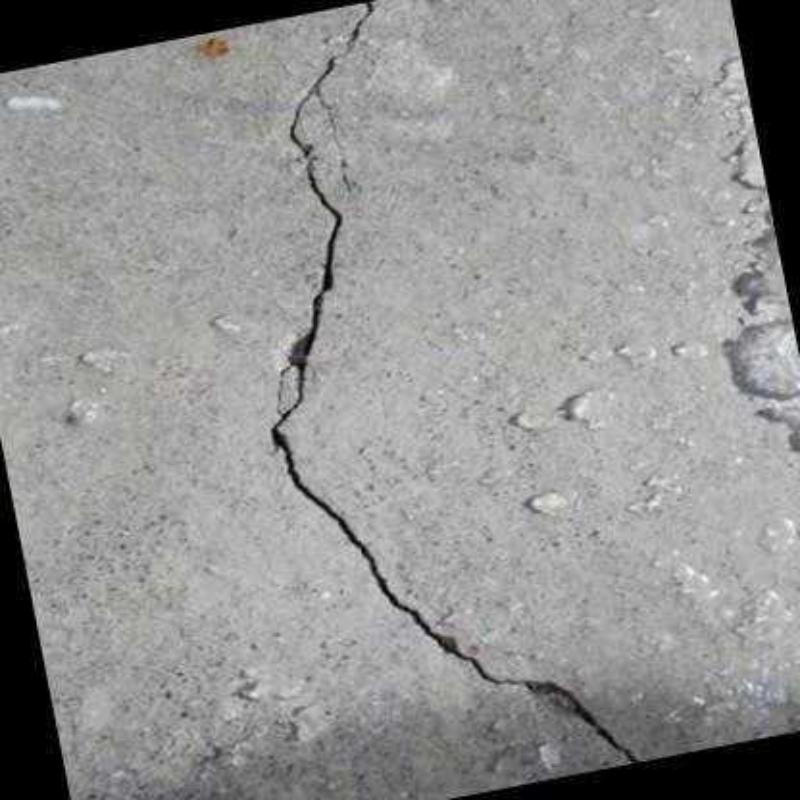crack: (264, 0, 647, 763), (315, 87, 354, 190)
